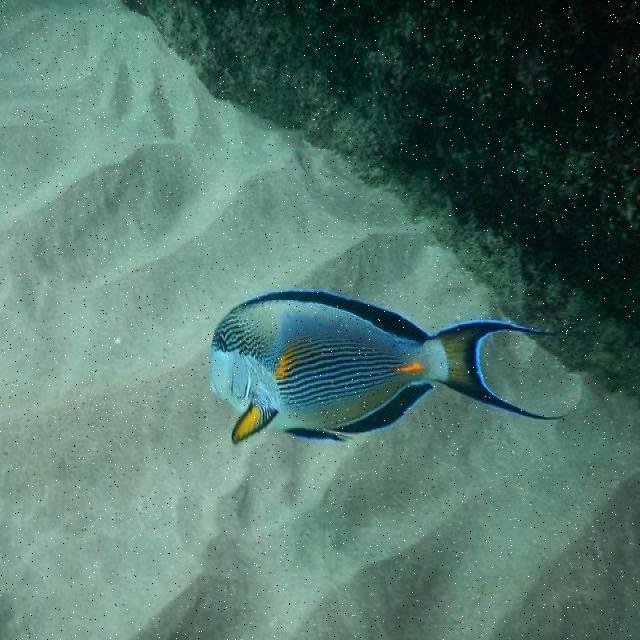fish: (208, 287, 568, 448)
